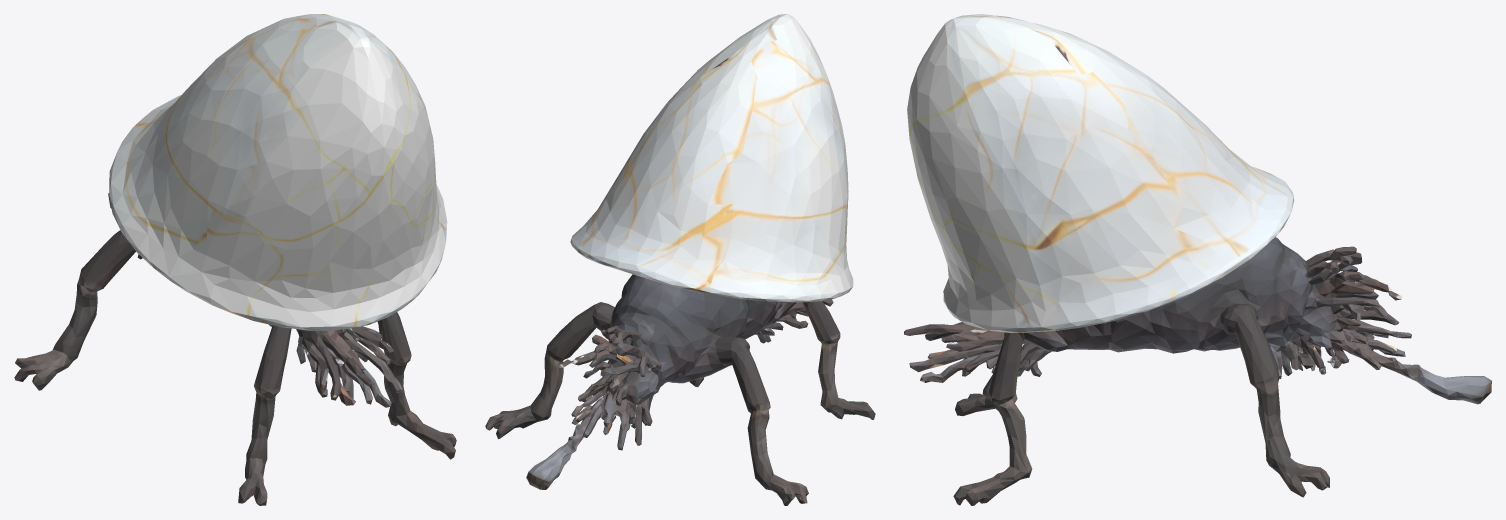
3 views of the same model, side by side, from view 1: azimuth 30°, elevation 25°; view 2: azimuth 150°, elevation 25°; view 3: azimuth 270°, elevation 25° (orthographic). The views are drawn at different scales.
Visible parts, largest first — view 1: figure; view 2: figure; view 3: figure.
Boxes of the visible parts, x1=… form: figure: x1=14, y1=14, x2=456, y2=505; figure: x1=485, y1=14, x2=875, y2=505; figure: x1=904, y1=14, x2=1491, y2=505.
Bounding box in the file's own units: 0.7851 × 0.9493 × 1.14.
1 material, 1 textured.
